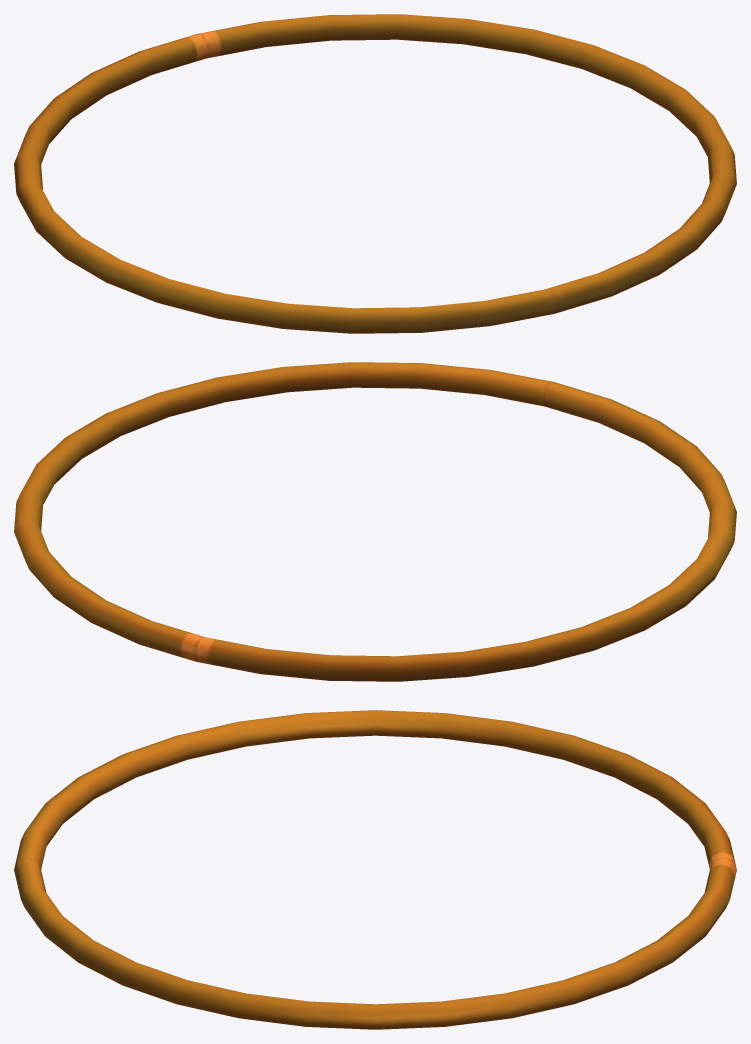
The model's file is Steel Circle_achivement.glb.
3 views of the same model, one above another, from view 1: azimuth 30°, elevation 25°; view 2: azimuth 150°, elevation 25°; view 3: azimuth 270°, elevation 25° (orthographic).
Visible parts, largest first — view 1: Steel Circle.001; view 2: Steel Circle.001; view 3: Steel Circle.001.
Boxes of the visible parts, x1=… form: Steel Circle.001: x1=14, y1=14, x2=736, y2=333; Steel Circle.001: x1=14, y1=362, x2=736, y2=681; Steel Circle.001: x1=14, y1=710, x2=736, y2=1029.
Size of the model in its own units: 0.4101 by 0.0154 by 0.4101.
Materials: 1 (1 with a texture image).
